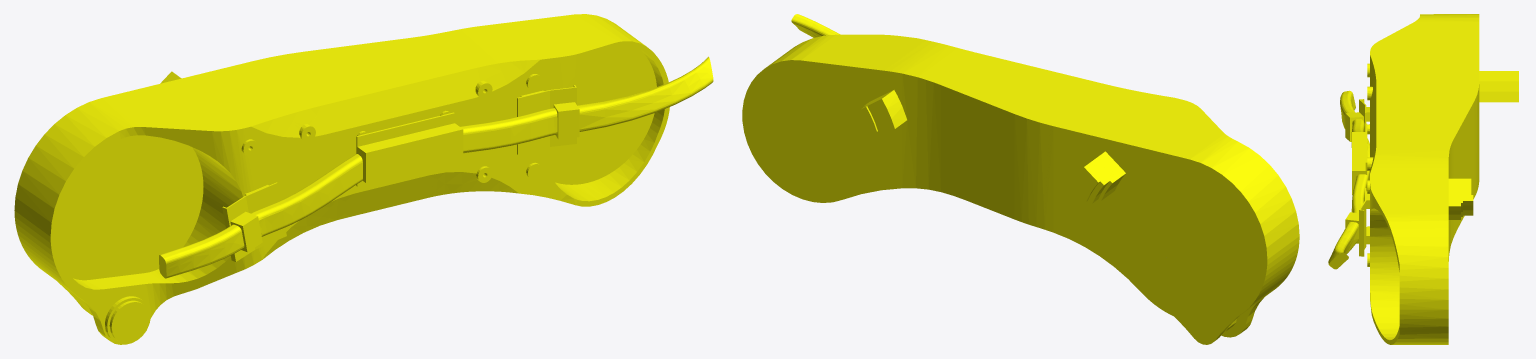
3 renders of one model, left to right at view 1: azimuth 30°, elevation 25°; view 2: azimuth 150°, elevation 25°; view 3: azimuth 270°, elevation 25°, orthographic. The views are drawn at different scales.
Visible parts, largest first — view 1: node; view 2: node; view 3: node.
Boxes of the visible parts, <box> form: node: <box>14,14,713,344</box>; node: <box>742,14,1299,344</box>; node: <box>1328,14,1518,344</box>.
Size of the model in its own units: 1479 by 500 by 493.
